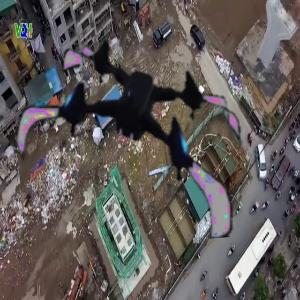drone: (12, 11, 246, 245)
